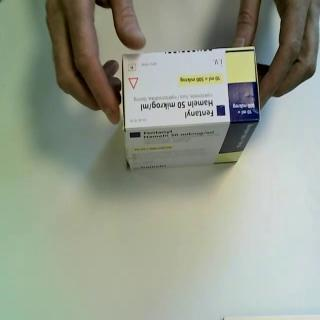fentanyl50ug_ml: (121, 45, 262, 172)
